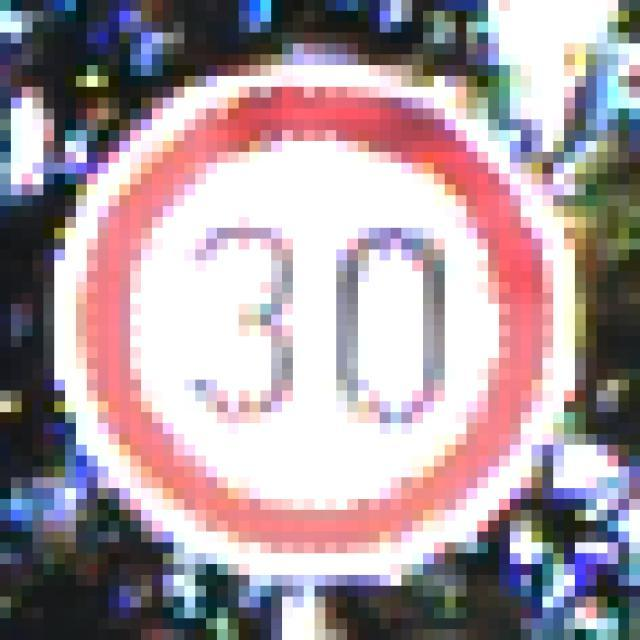Speed Limit -30-: (48, 65, 580, 575)
